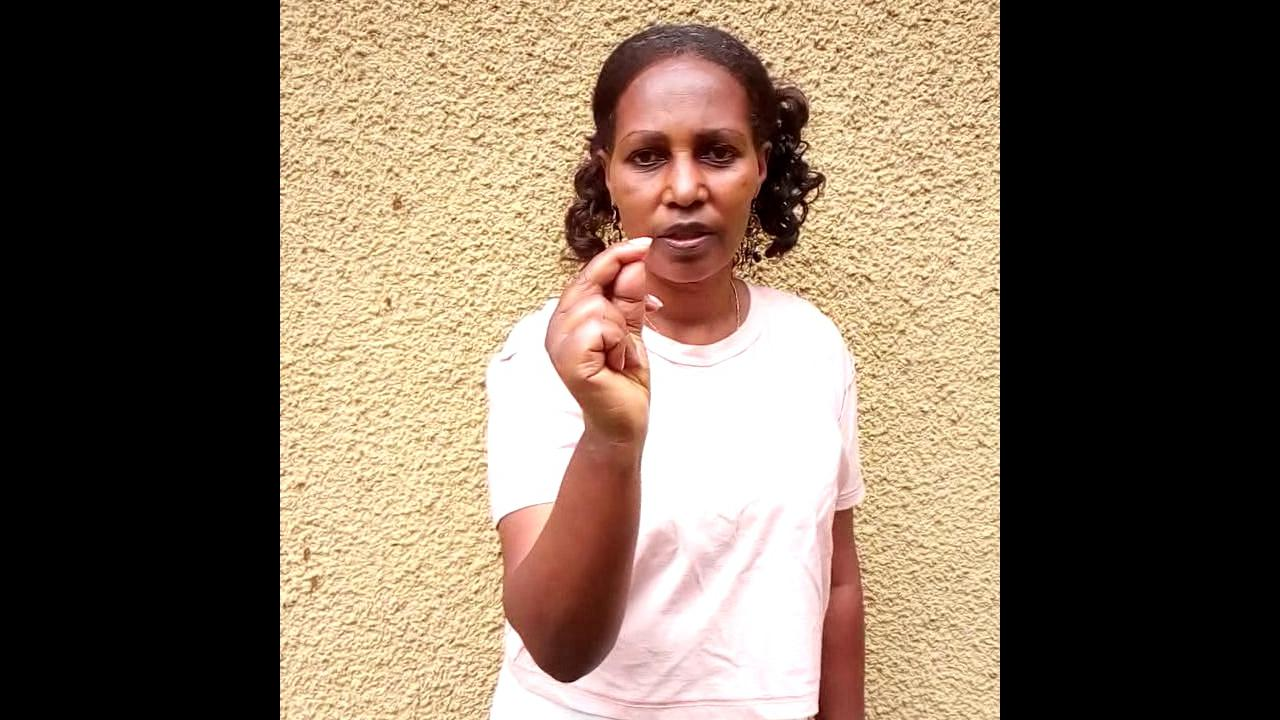CHE: (545, 239, 665, 553)
